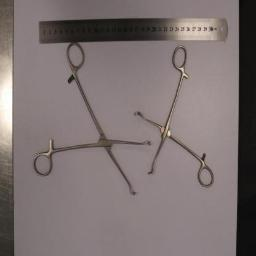Babcock Tissue Forceps: (134, 45, 214, 187)
